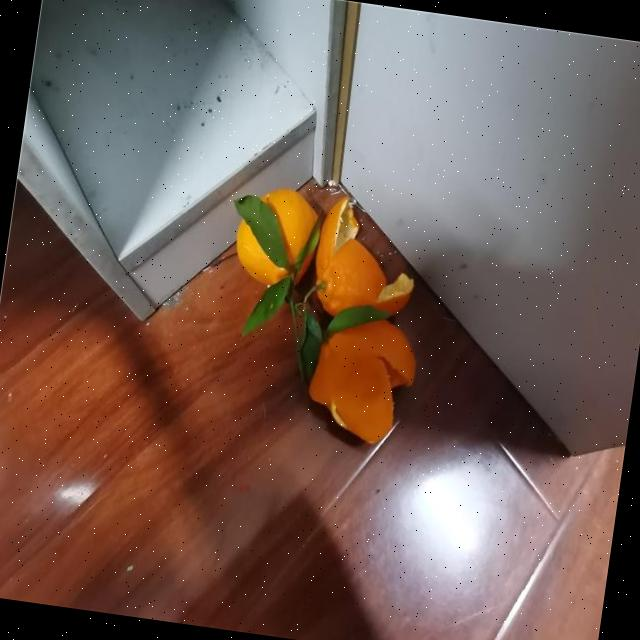orange-peel: (207, 178, 440, 450), (300, 310, 422, 449), (229, 181, 323, 291)
